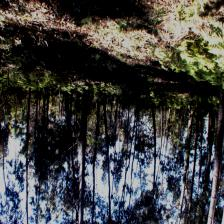trunktrack_idkeyframe: (80, 88, 89, 187), (185, 101, 198, 157), (101, 92, 110, 142), (150, 101, 157, 150), (64, 90, 72, 130), (208, 102, 214, 155), (26, 87, 31, 131), (95, 99, 100, 133)
